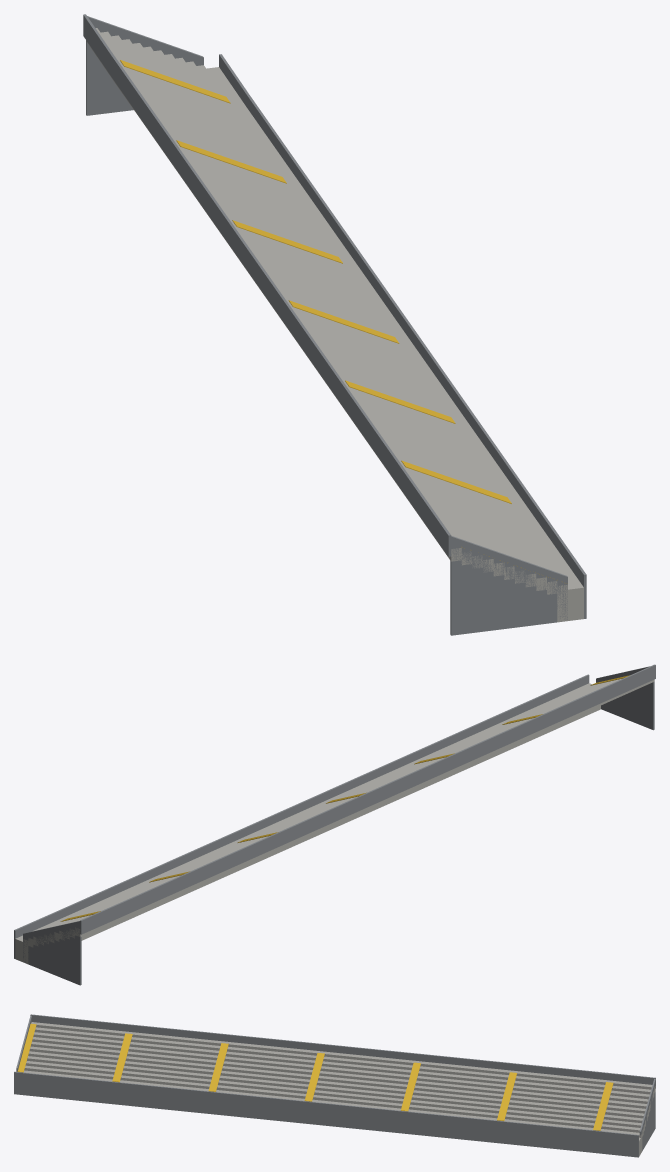
Rendered from spo_stand_a_4.glb.
3 renders of one model, top to bottom at view 1: azimuth 30°, elevation 25°; view 2: azimuth 150°, elevation 25°; view 3: azimuth 270°, elevation 25°, orthographic. The views are drawn at different scales.
Parts seen in each view (by area): view 1: sao-paulo-sector-a-4; view 2: sao-paulo-sector-a-4; view 3: sao-paulo-sector-a-4.
Boxes of the visible parts, x1,y1,x2,y2 form: sao-paulo-sector-a-4: [83, 14, 586, 635]; sao-paulo-sector-a-4: [14, 664, 655, 985]; sao-paulo-sector-a-4: [14, 1014, 655, 1157].
Bounding box in the file's own units: 31.75 × 8 × 92.64.
